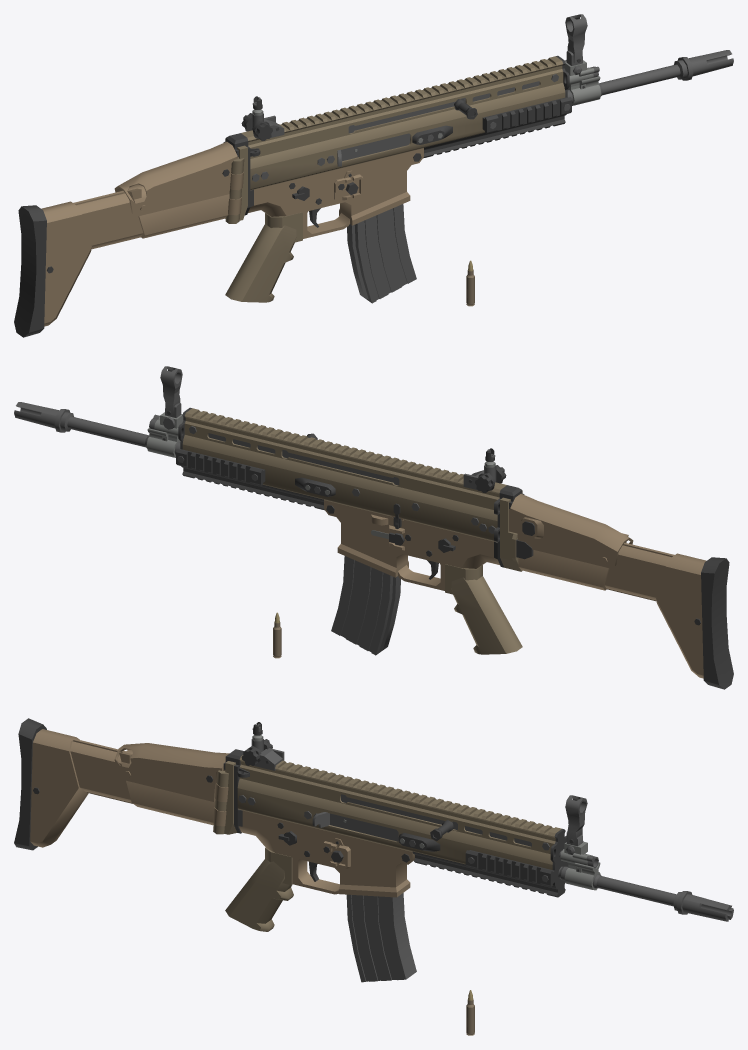
The model's file is SCAR L.fbx.
3 renders of one model, top to bottom at view 1: azimuth 30°, elevation 25°; view 2: azimuth 150°, elevation 25°; view 3: azimuth 330°, elevation 25°, orthographic.
Parts seen in each view (by area): view 1: SCAR L, SCAR L Mag, SCAR L Bolt, SCAR L IronSights, SCAR L IronSights 2; view 2: SCAR L, SCAR L Mag, SCAR L IronSights, SCAR L Bolt, SCAR L IronSights 2; view 3: SCAR L, SCAR L Mag, SCAR L Bolt, SCAR L IronSights, SCAR L IronSights 2.
Part boxes in pixels (x1,y1,x2,y2): SCAR L: [14, 50, 733, 337]; SCAR L Mag: [347, 204, 416, 303]; SCAR L Bolt: [348, 81, 539, 133]; SCAR L IronSights: [241, 96, 284, 140]; SCAR L IronSights 2: [565, 14, 587, 64]; SCAR L: [14, 402, 733, 689]; SCAR L Mag: [331, 556, 400, 655]; SCAR L IronSights: [463, 448, 506, 492]; SCAR L Bolt: [208, 433, 399, 485]; SCAR L IronSights 2: [160, 366, 182, 416]; SCAR L: [14, 718, 733, 931]; SCAR L Mag: [346, 893, 416, 982]; SCAR L Bolt: [341, 794, 531, 846]; SCAR L IronSights: [241, 722, 284, 770]; SCAR L IronSights 2: [565, 795, 587, 845].
Size of the model in its own units: 1035 by 367 by 75.18.
